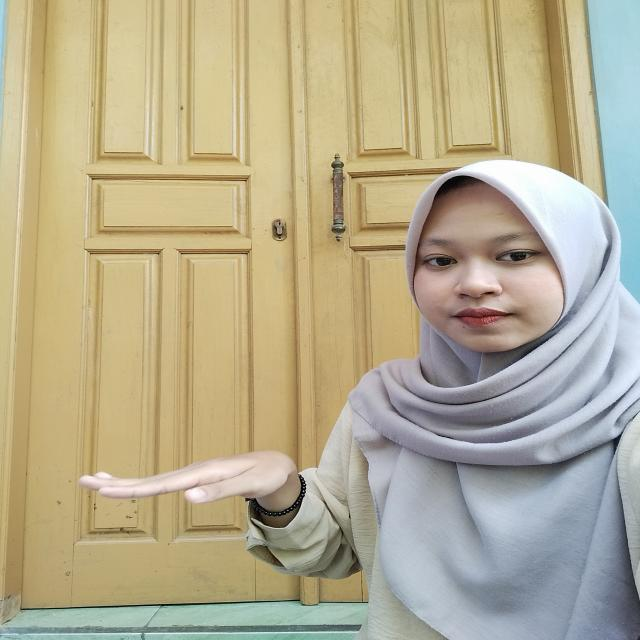adik: (50, 436, 338, 545)
